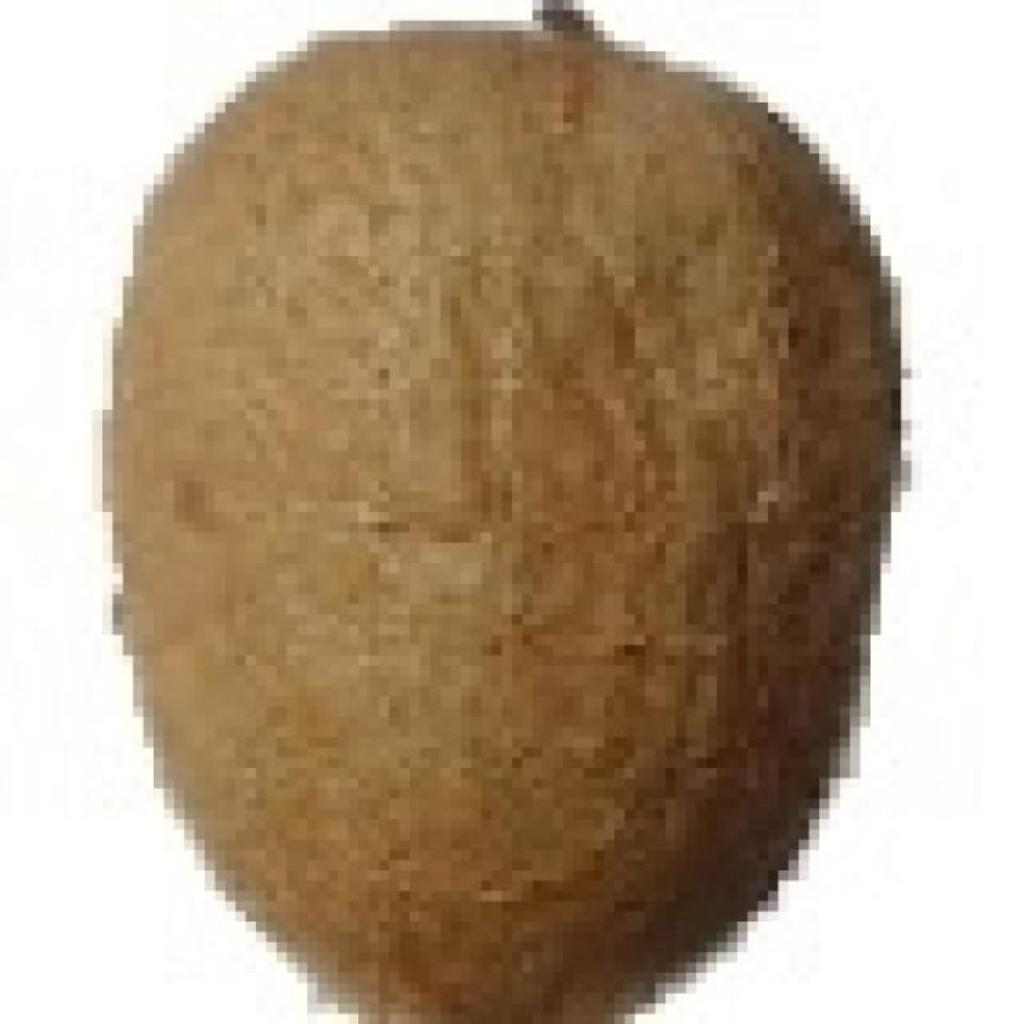kiwi: (102, 0, 870, 1004)
